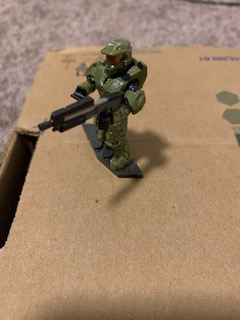chief: (66, 39, 150, 172)
rifle: (38, 90, 124, 134)
spartan: (64, 37, 148, 170)
